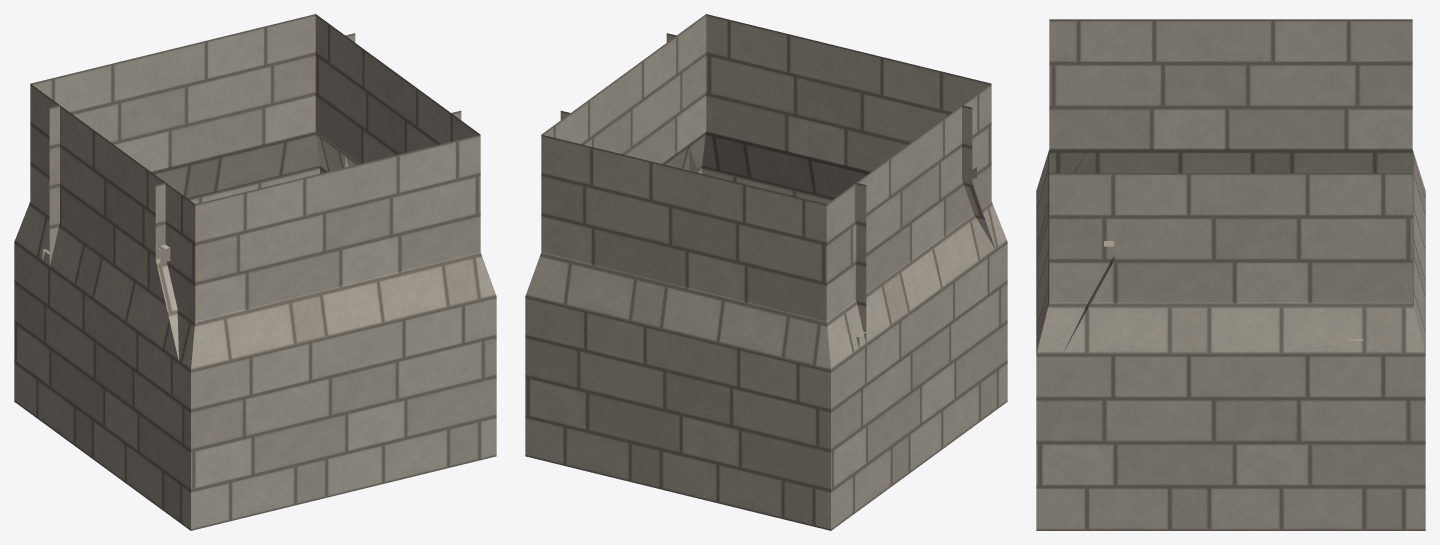
Rendered from Tower_Base_Inline.fbx.
3 renders of one model, left to right at view 1: azimuth 30°, elevation 25°; view 2: azimuth 150°, elevation 25°; view 3: azimuth 270°, elevation 25°, orthographic. The views are drawn at different scales.
Parts seen in each view (by area): view 1: Tower_Base_Inline; view 2: Tower_Base_Inline; view 3: Tower_Base_Inline.
Part boxes in pixels (x1,y1,x2,y2): Tower_Base_Inline: [14, 14, 496, 530]; Tower_Base_Inline: [525, 14, 1007, 530]; Tower_Base_Inline: [1036, 19, 1425, 530].
Size of the model in its own units: 3 by 3 by 3.
1 material, 1 textured.
